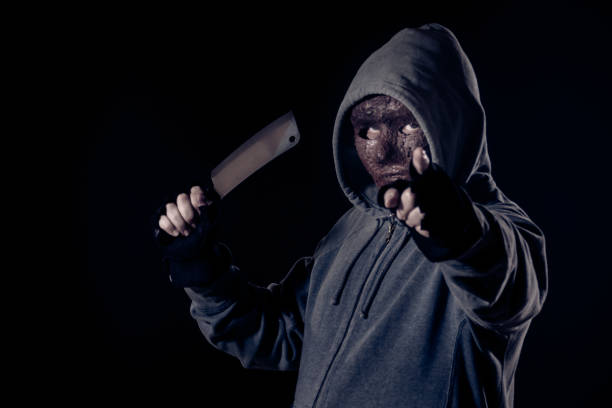knife: (152, 108, 302, 247)
